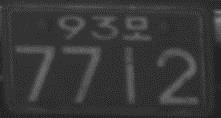1: (112, 47, 148, 105)
2: (155, 45, 199, 106)
3: (89, 14, 118, 40)
7: (13, 42, 55, 103), (60, 44, 102, 103)
9: (57, 13, 85, 41)
모: (122, 14, 153, 41)
